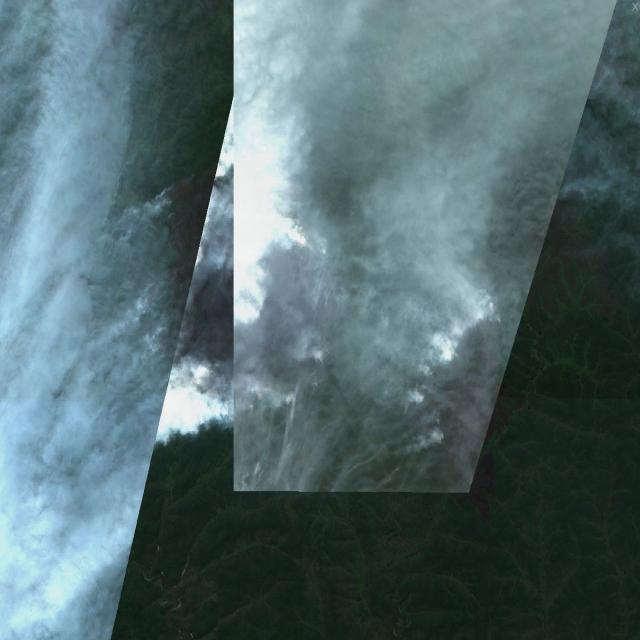fire: (150, 170, 330, 416), (424, 293, 504, 437)
